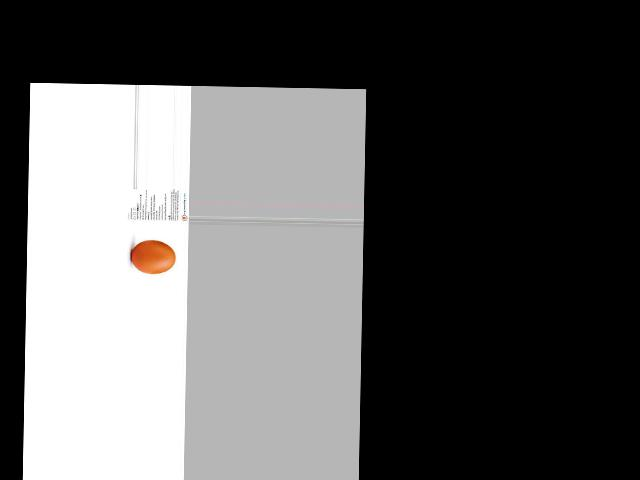egg: (130, 239, 175, 274)
